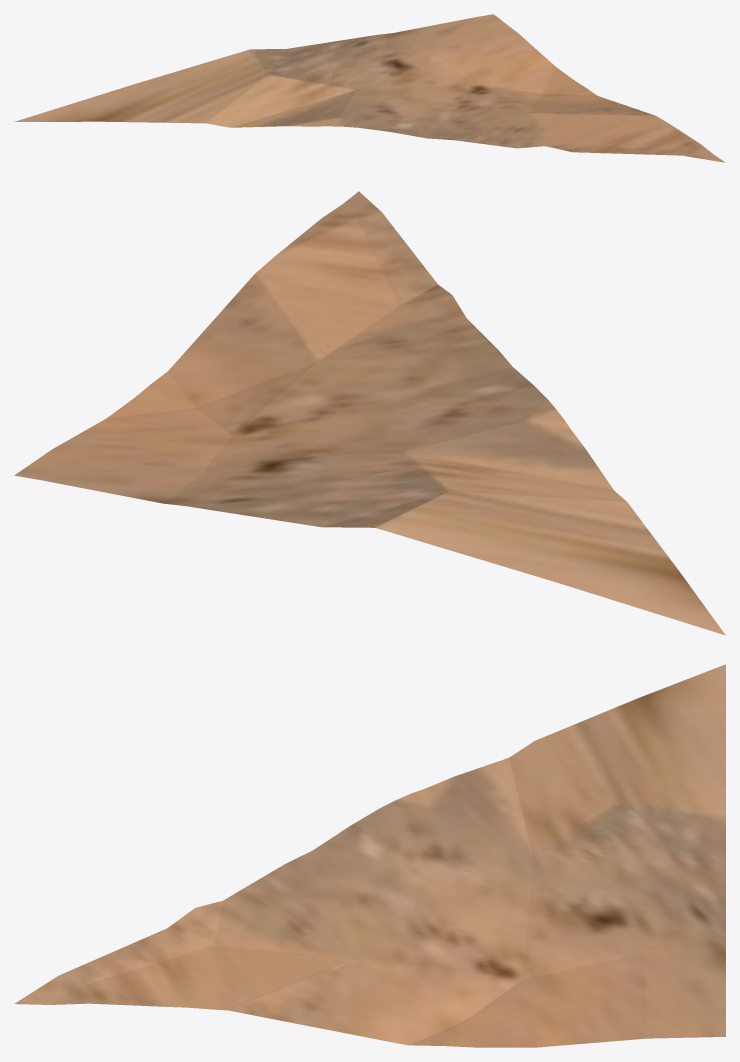
The picture shows the model from 3 angles, top to bottom: view 1: azimuth 30°, elevation 25°; view 2: azimuth 150°, elevation 25°; view 3: azimuth 270°, elevation 25°; orthographic projection. The views are drawn at different scales.
Size of the model in its own units: 2.84 by 0.2102 by 2.39.
1 material, 1 textured.
